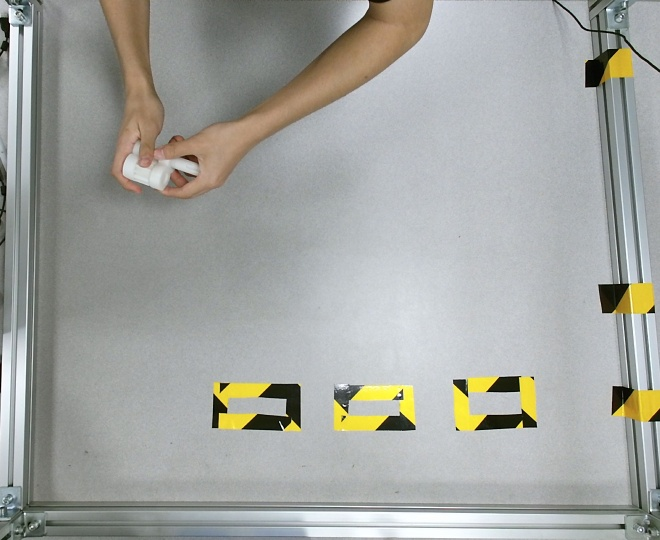stage_3: (121, 140, 200, 190)
